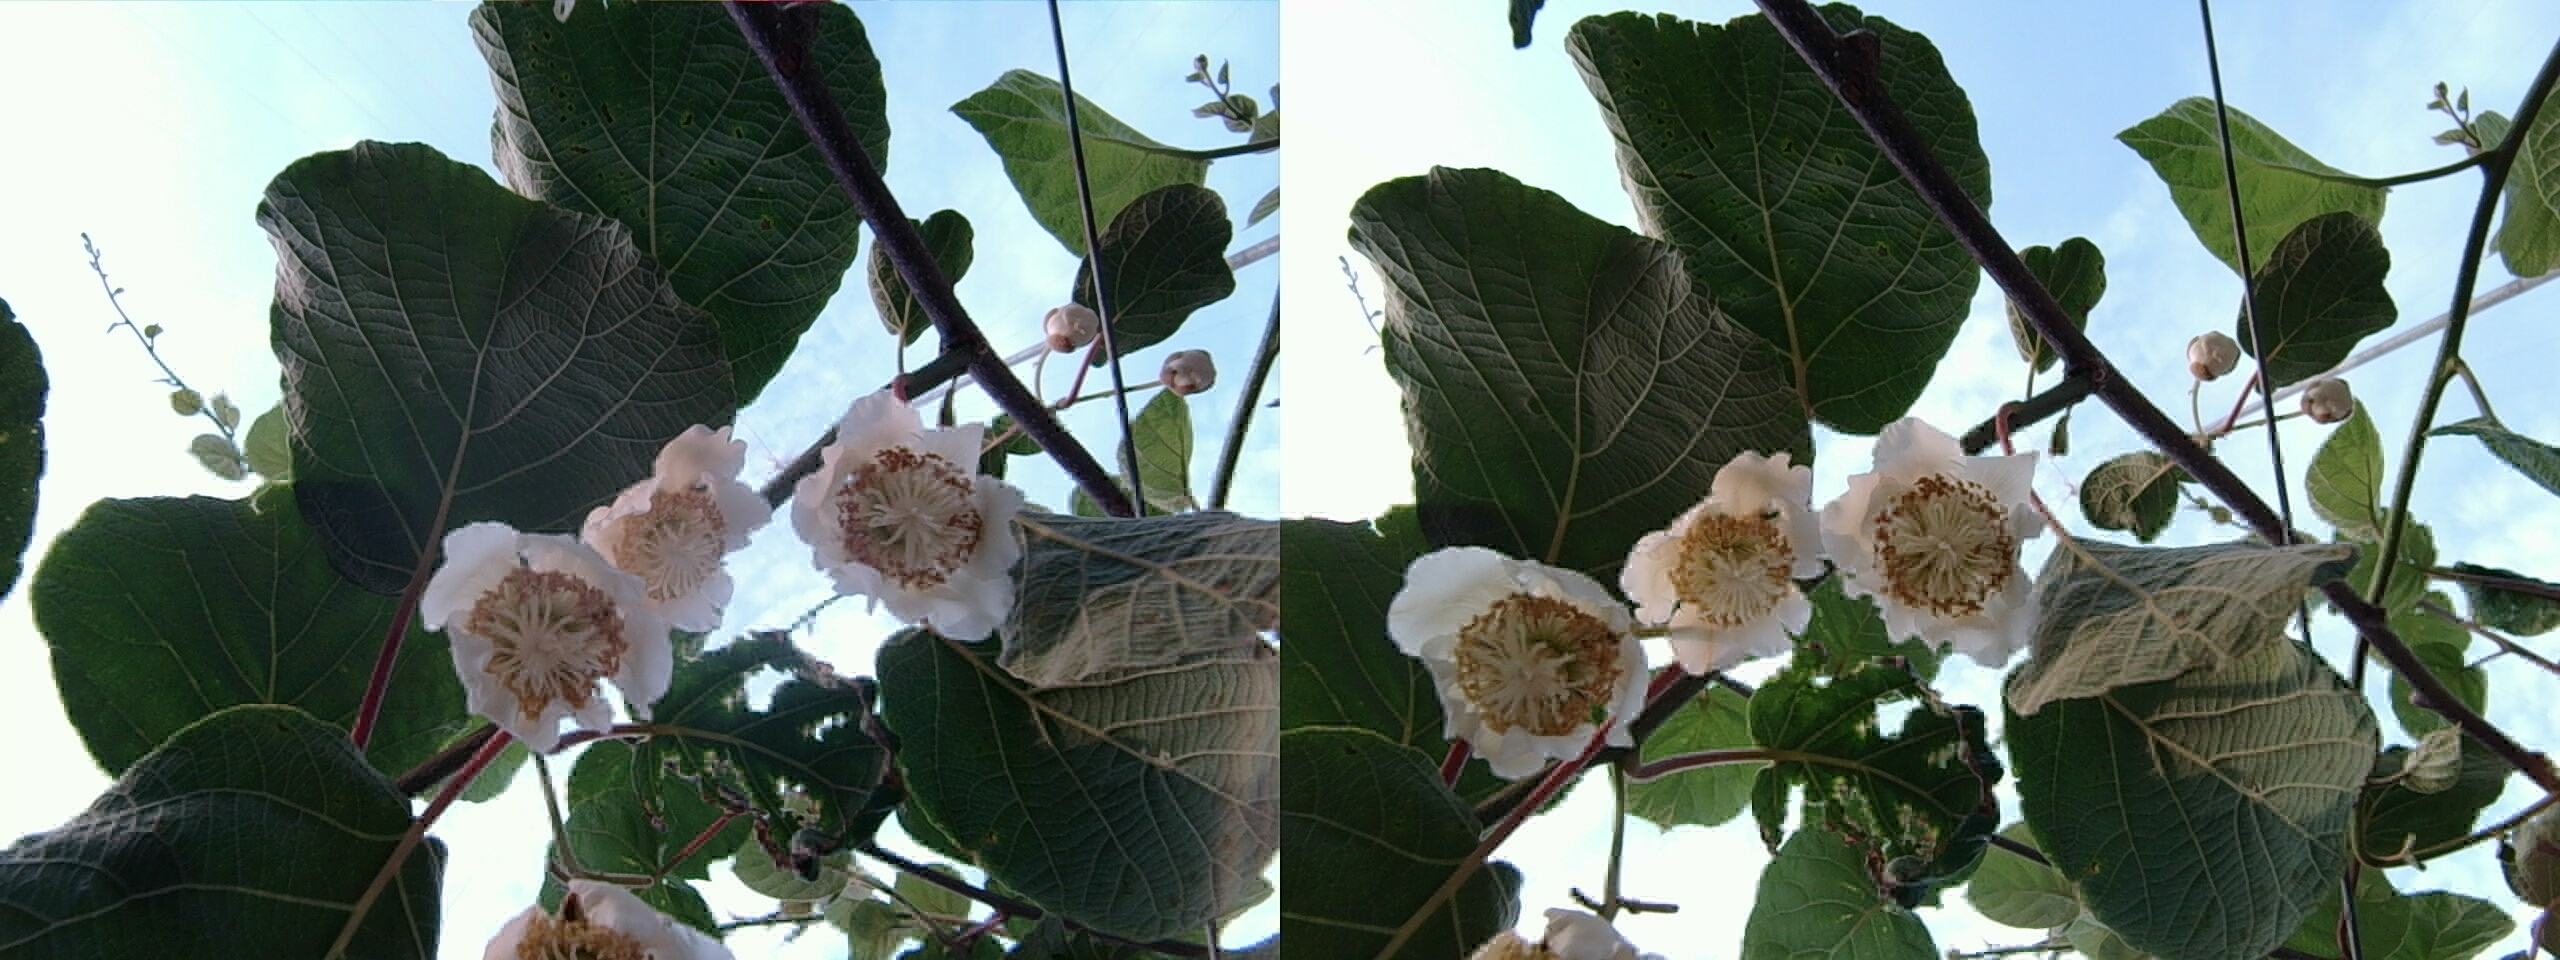flower: (415, 509, 686, 741), (1393, 536, 1647, 777), (782, 393, 1019, 629), (1819, 426, 2042, 658), (1621, 446, 1824, 666), (576, 428, 767, 635)
